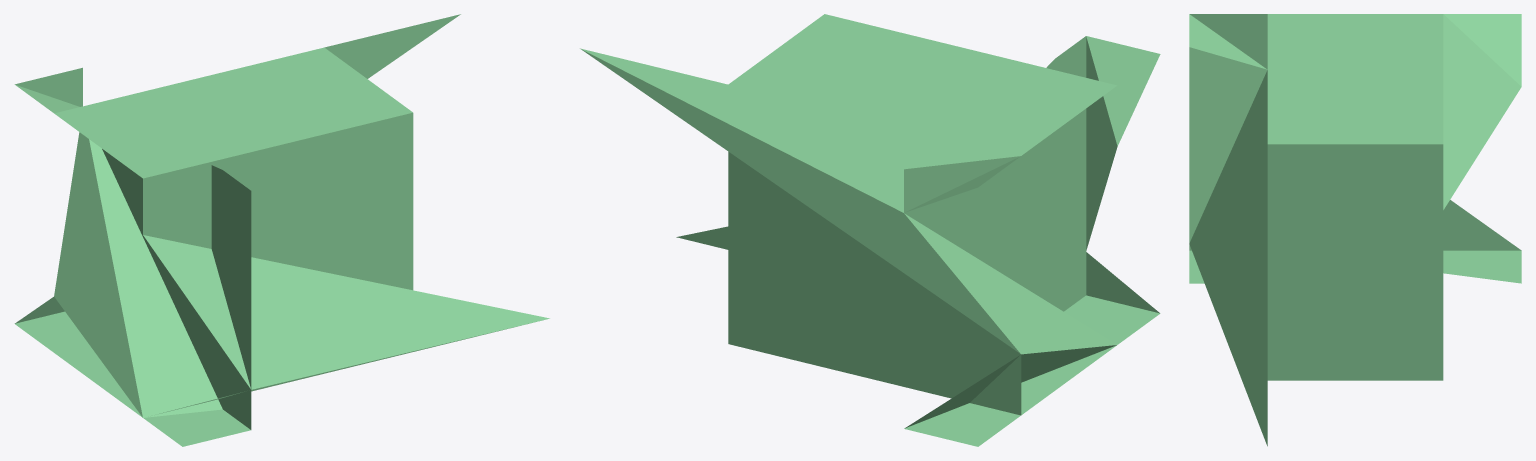
Rendered from input_00_big_parks_original.glb.
3 views of the same model, side by side, from view 1: azimuth 30°, elevation 25°; view 2: azimuth 150°, elevation 25°; view 3: azimuth 270°, elevation 25° (orthographic). The views are drawn at different scales.
Parts seen in each view (by area): view 1: world; view 2: world; view 3: world.
Part boxes in pixels (left/top/right/bottom): world: left=14, top=14, right=549, bottom=446; world: left=580, top=14, right=1160, bottom=446; world: left=1189, top=14, right=1521, bottom=446.
Bounding box in the file's own units: 1.78 × 1 × 1.27.
